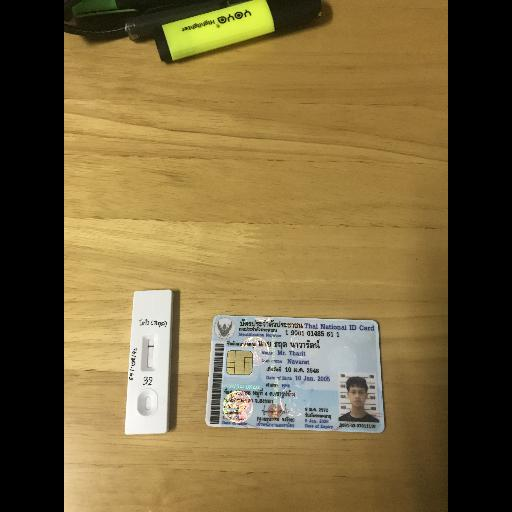Neg: (125, 289, 172, 433)
